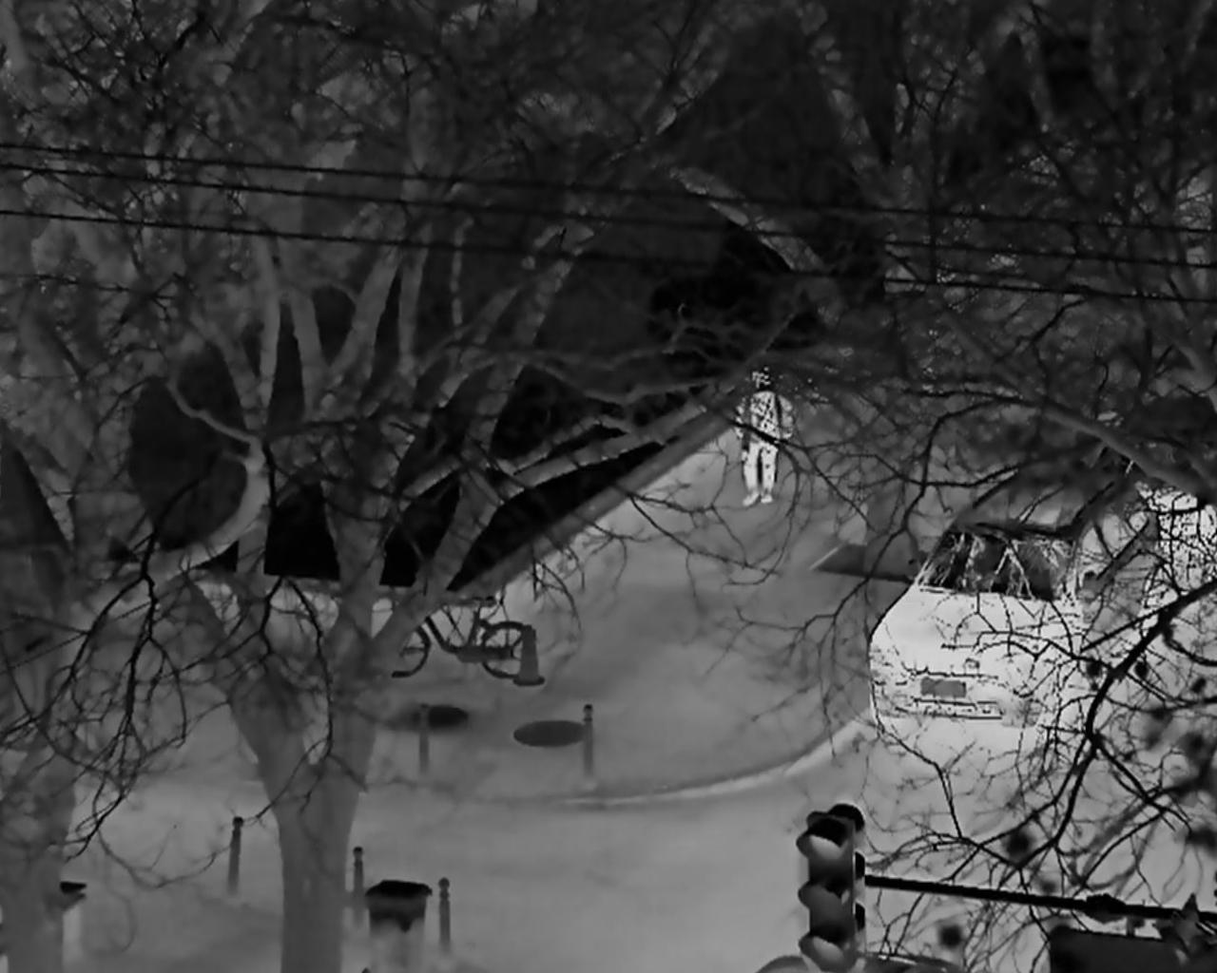person: (735, 388, 797, 507)
